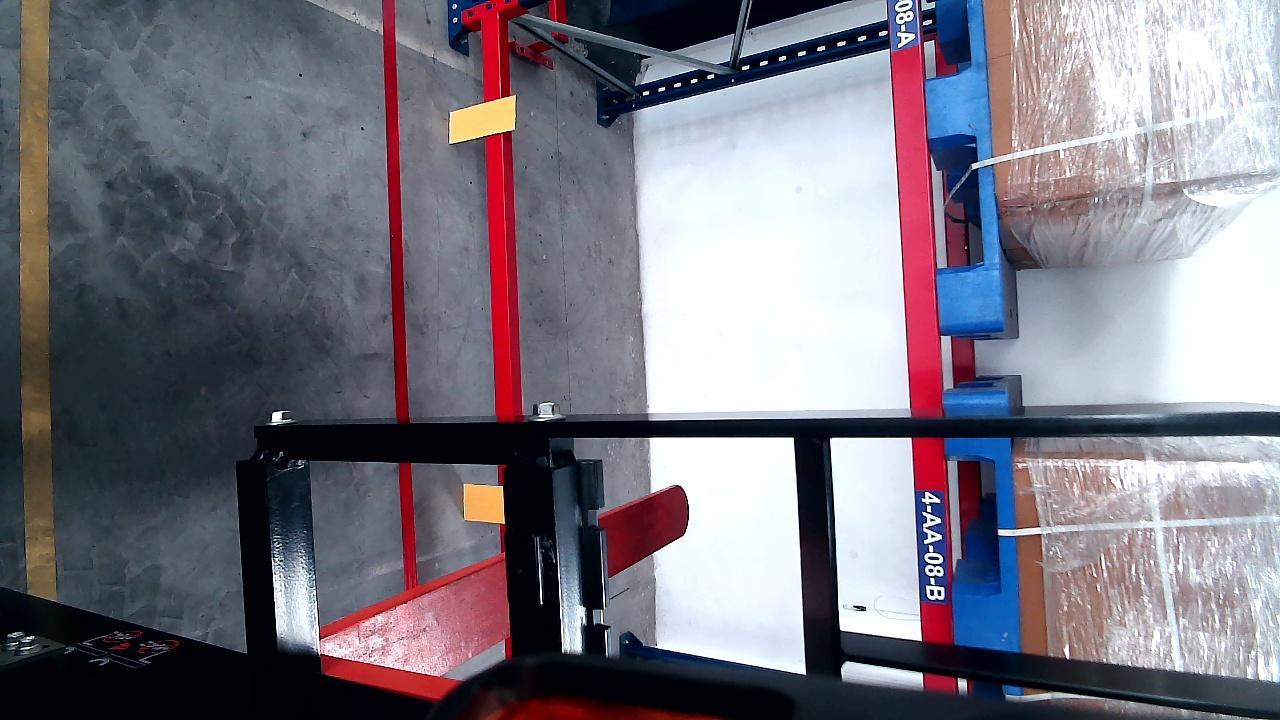red_line: (382, 1, 420, 588)
yellow_line: (18, 3, 55, 602)
